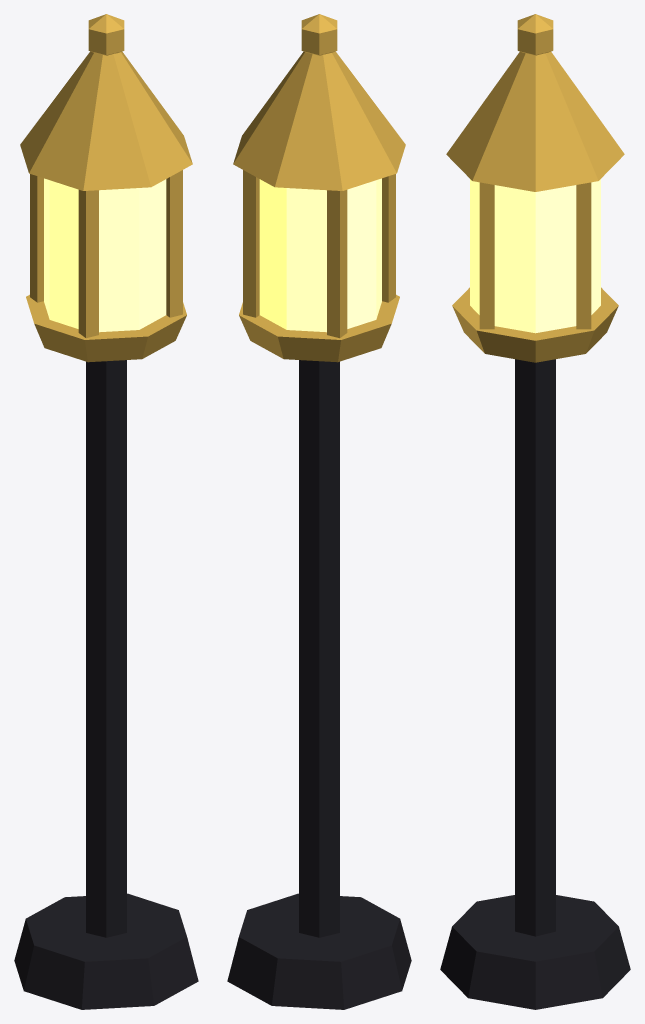
Rendered from b-lantern-gold.glb.
3 renders of one model, left to right at view 1: azimuth 30°, elevation 25°; view 2: azimuth 150°, elevation 25°; view 3: azimuth 270°, elevation 25°, orthographic.
Visible parts, largest first — view 1: b-lantern-gold; view 2: b-lantern-gold; view 3: b-lantern-gold.
Part boxes in pixels (x1,y1,x2,y2): b-lantern-gold: [14, 14, 198, 1009]; b-lantern-gold: [227, 14, 411, 1009]; b-lantern-gold: [440, 14, 630, 1009].
Bounding box in the file's own units: 0.32 × 1.77 × 0.32.
